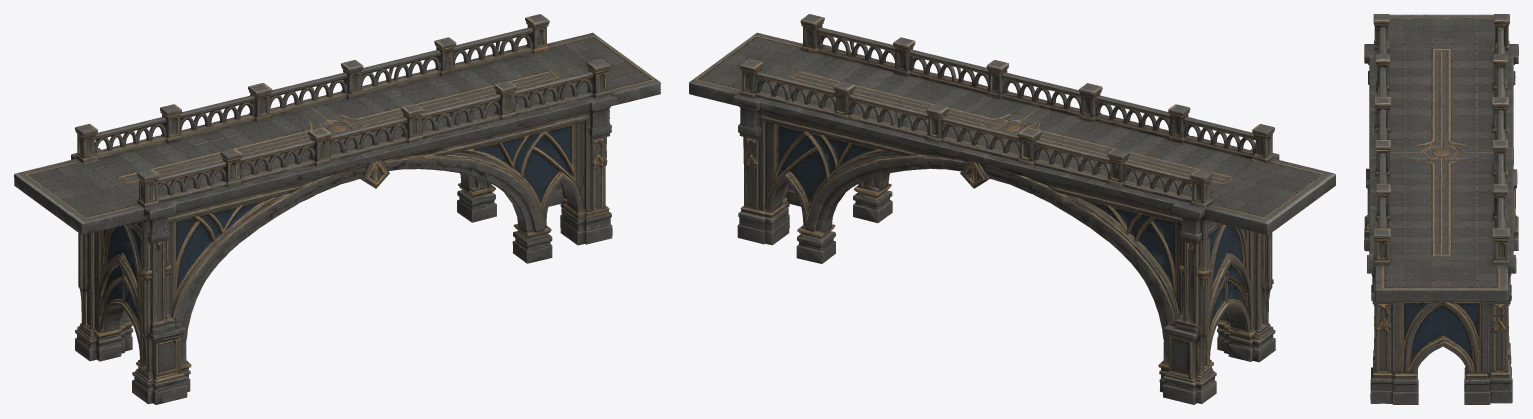
The model's file is Meshy_AI_model.glb.
3 views of the same model, side by side, from view 1: azimuth 30°, elevation 25°; view 2: azimuth 150°, elevation 25°; view 3: azimuth 270°, elevation 25° (orthographic). The views are drawn at different scales.
Visible parts, largest first — view 1: mesh_node; view 2: mesh_node; view 3: mesh_node.
Boxes of the visible parts, <box> form: mesh_node: <box>14,14,660,404</box>; mesh_node: <box>689,14,1335,404</box>; mesh_node: <box>1364,14,1518,404</box>.
Size of the model in its own units: 1.9 by 0.707 by 0.4514.
1 material, 1 textured.
